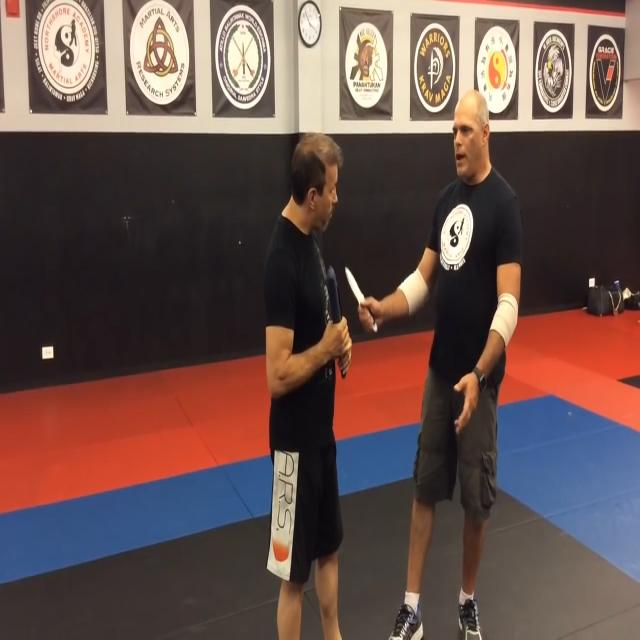knife: (344, 265, 384, 337)
